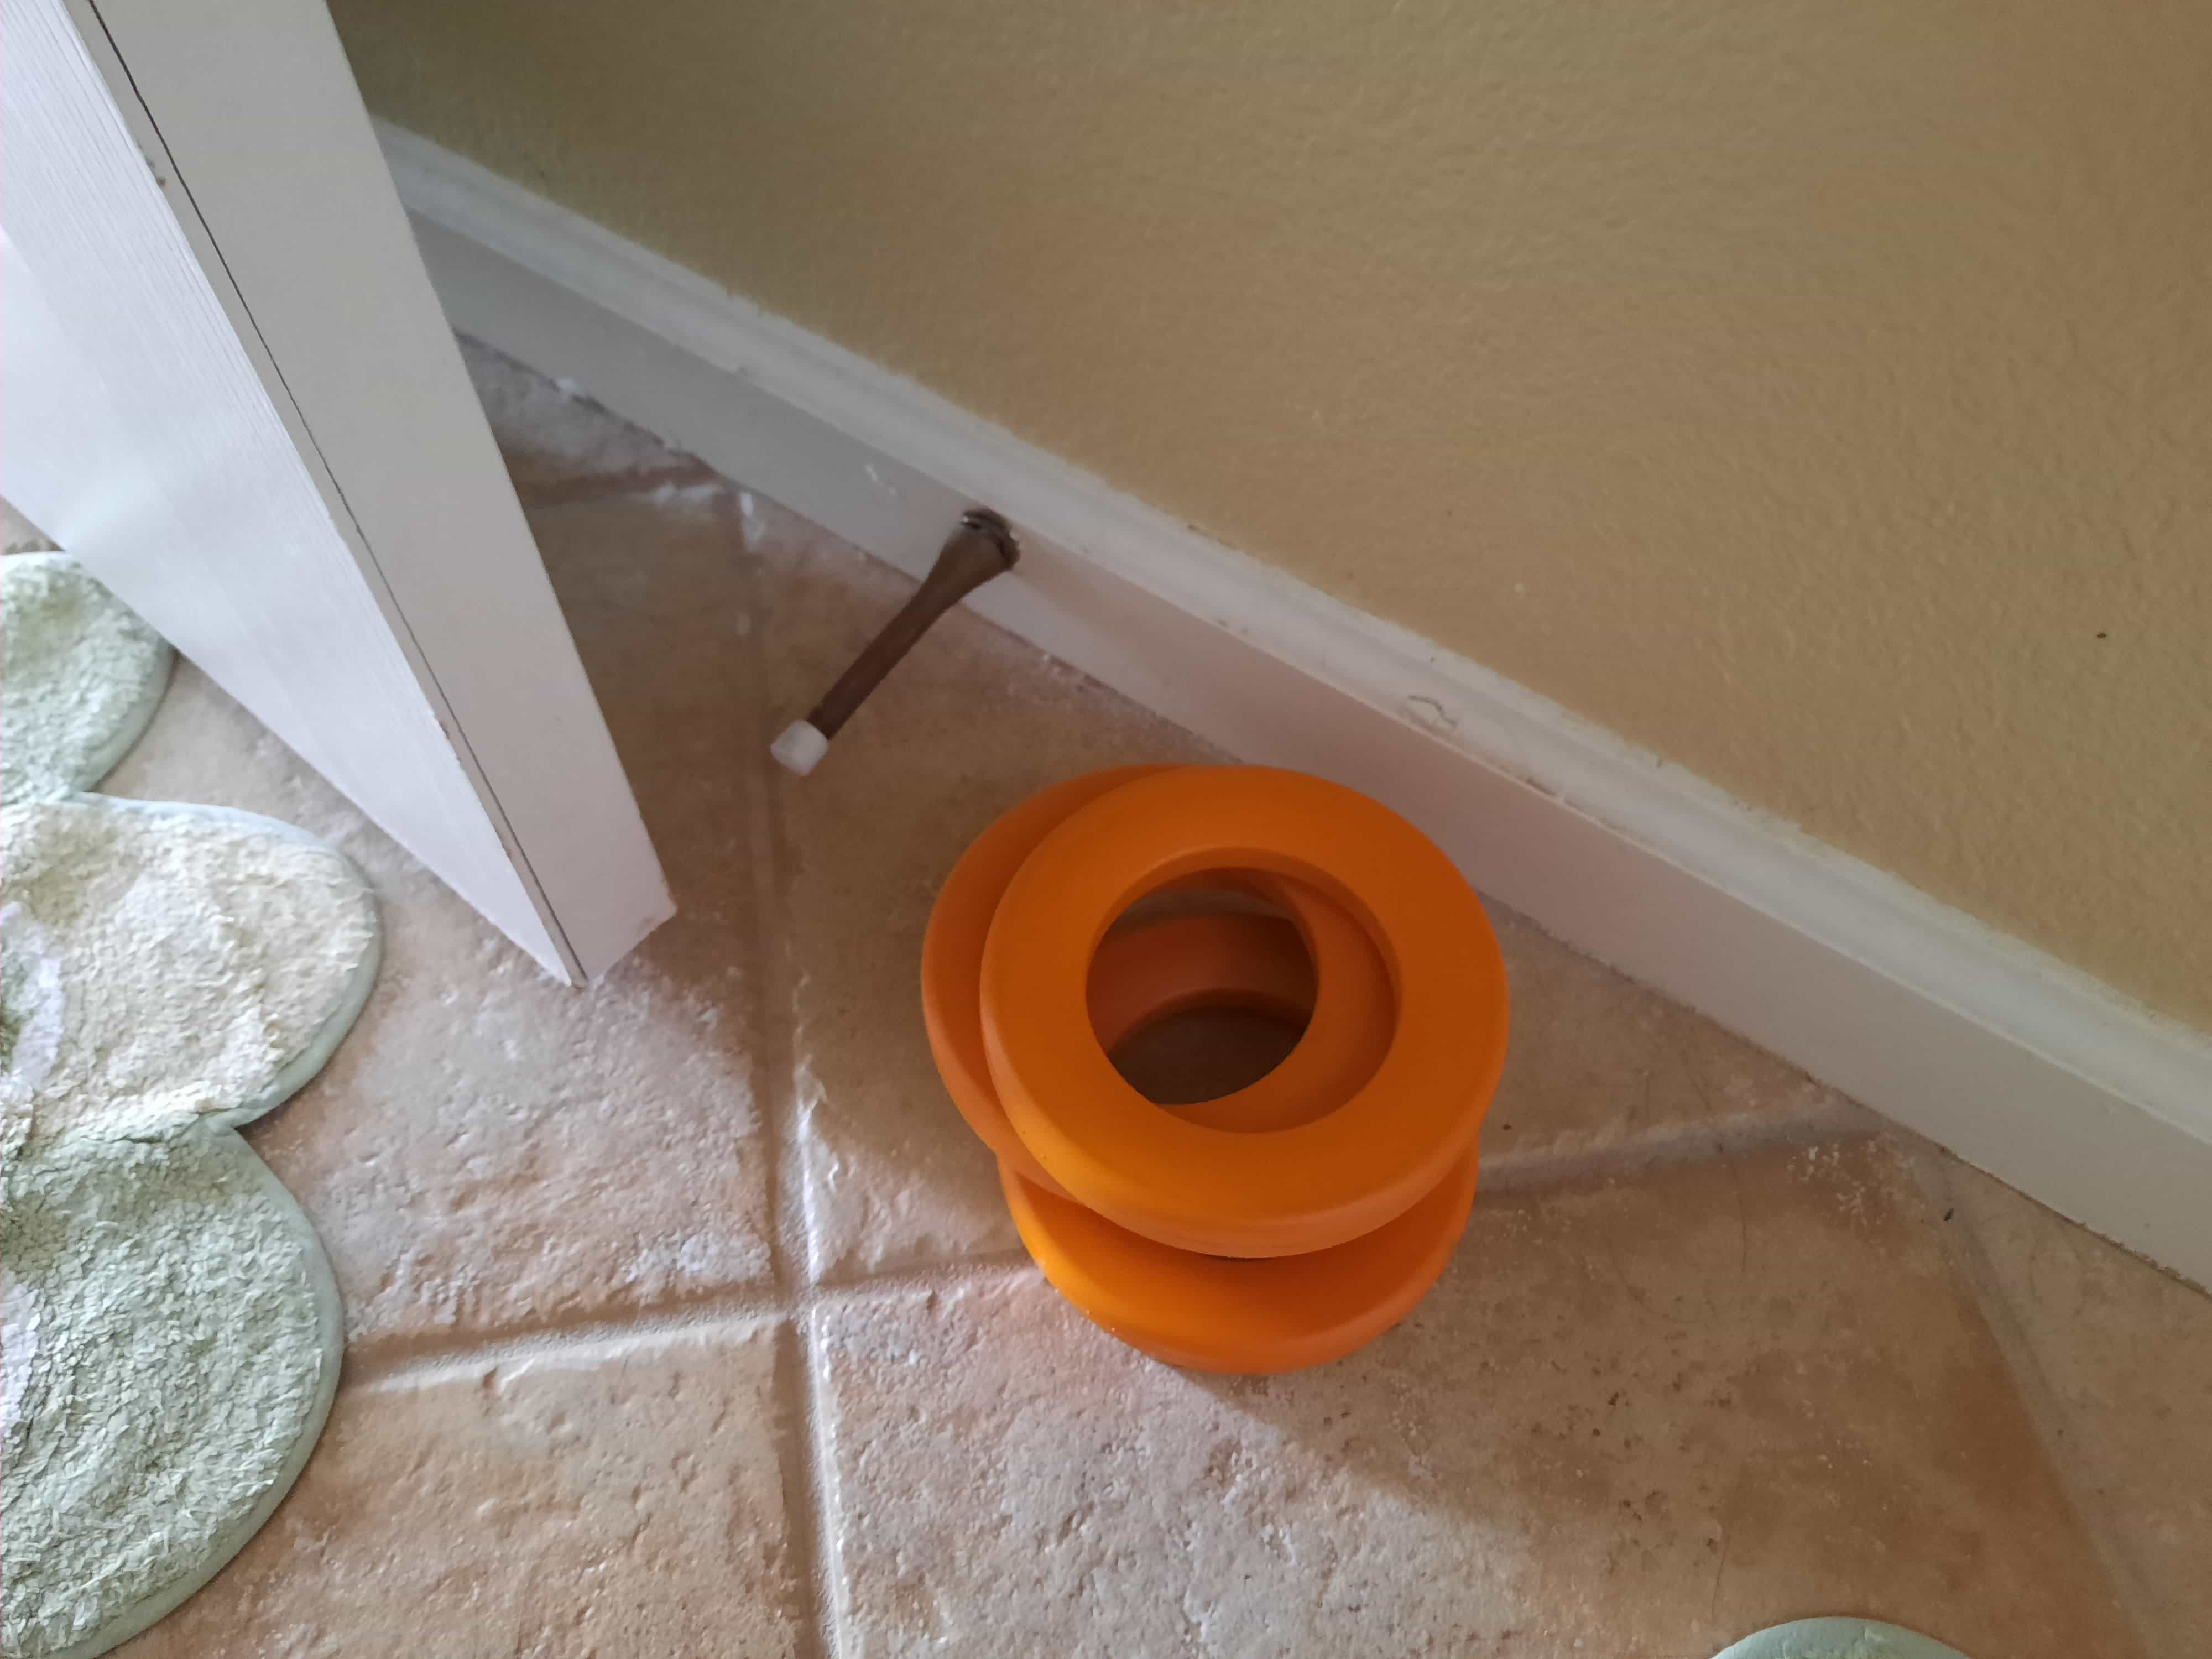FourStack: (913, 812, 1508, 1351)
